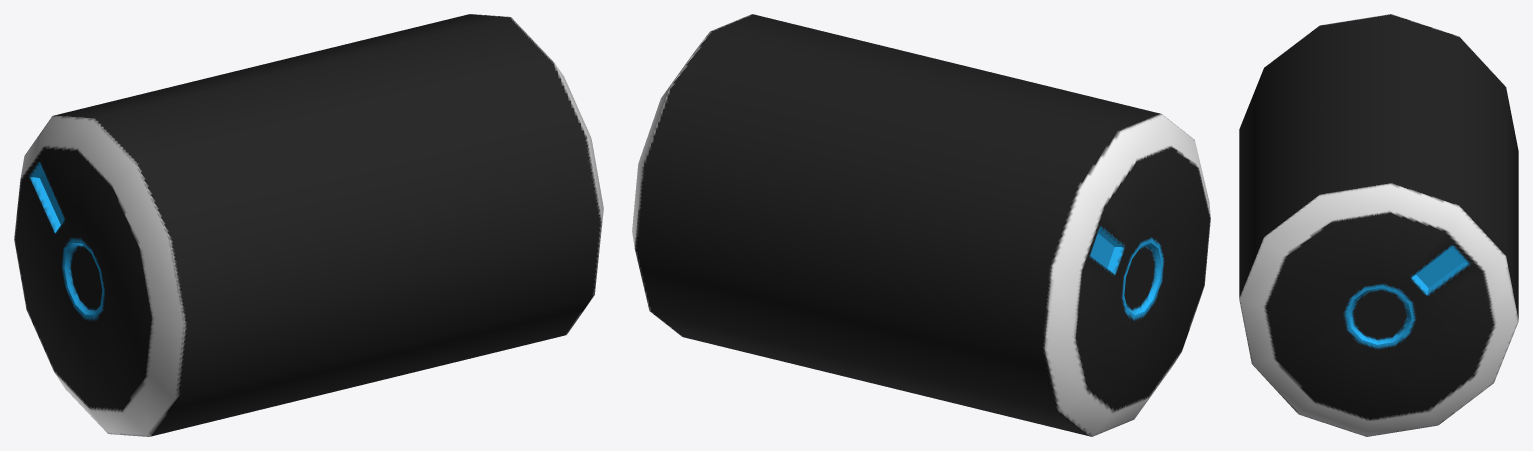
File: PistolRollingBarrel.fbx
The picture shows the model from 3 angles, left to right: view 1: azimuth 30°, elevation 25°; view 2: azimuth 150°, elevation 25°; view 3: azimuth 270°, elevation 25°; orthographic projection. The views are drawn at different scales.
Parts seen in each view (by area): view 1: ReloadBarrel; view 2: ReloadBarrel; view 3: ReloadBarrel.
Part boxes in pixels (x1,y1,x2,y2): ReloadBarrel: [14, 14, 603, 436]; ReloadBarrel: [632, 14, 1210, 436]; ReloadBarrel: [1239, 14, 1518, 436].
Bounding box in the file's own units: 226 × 146 × 146.
